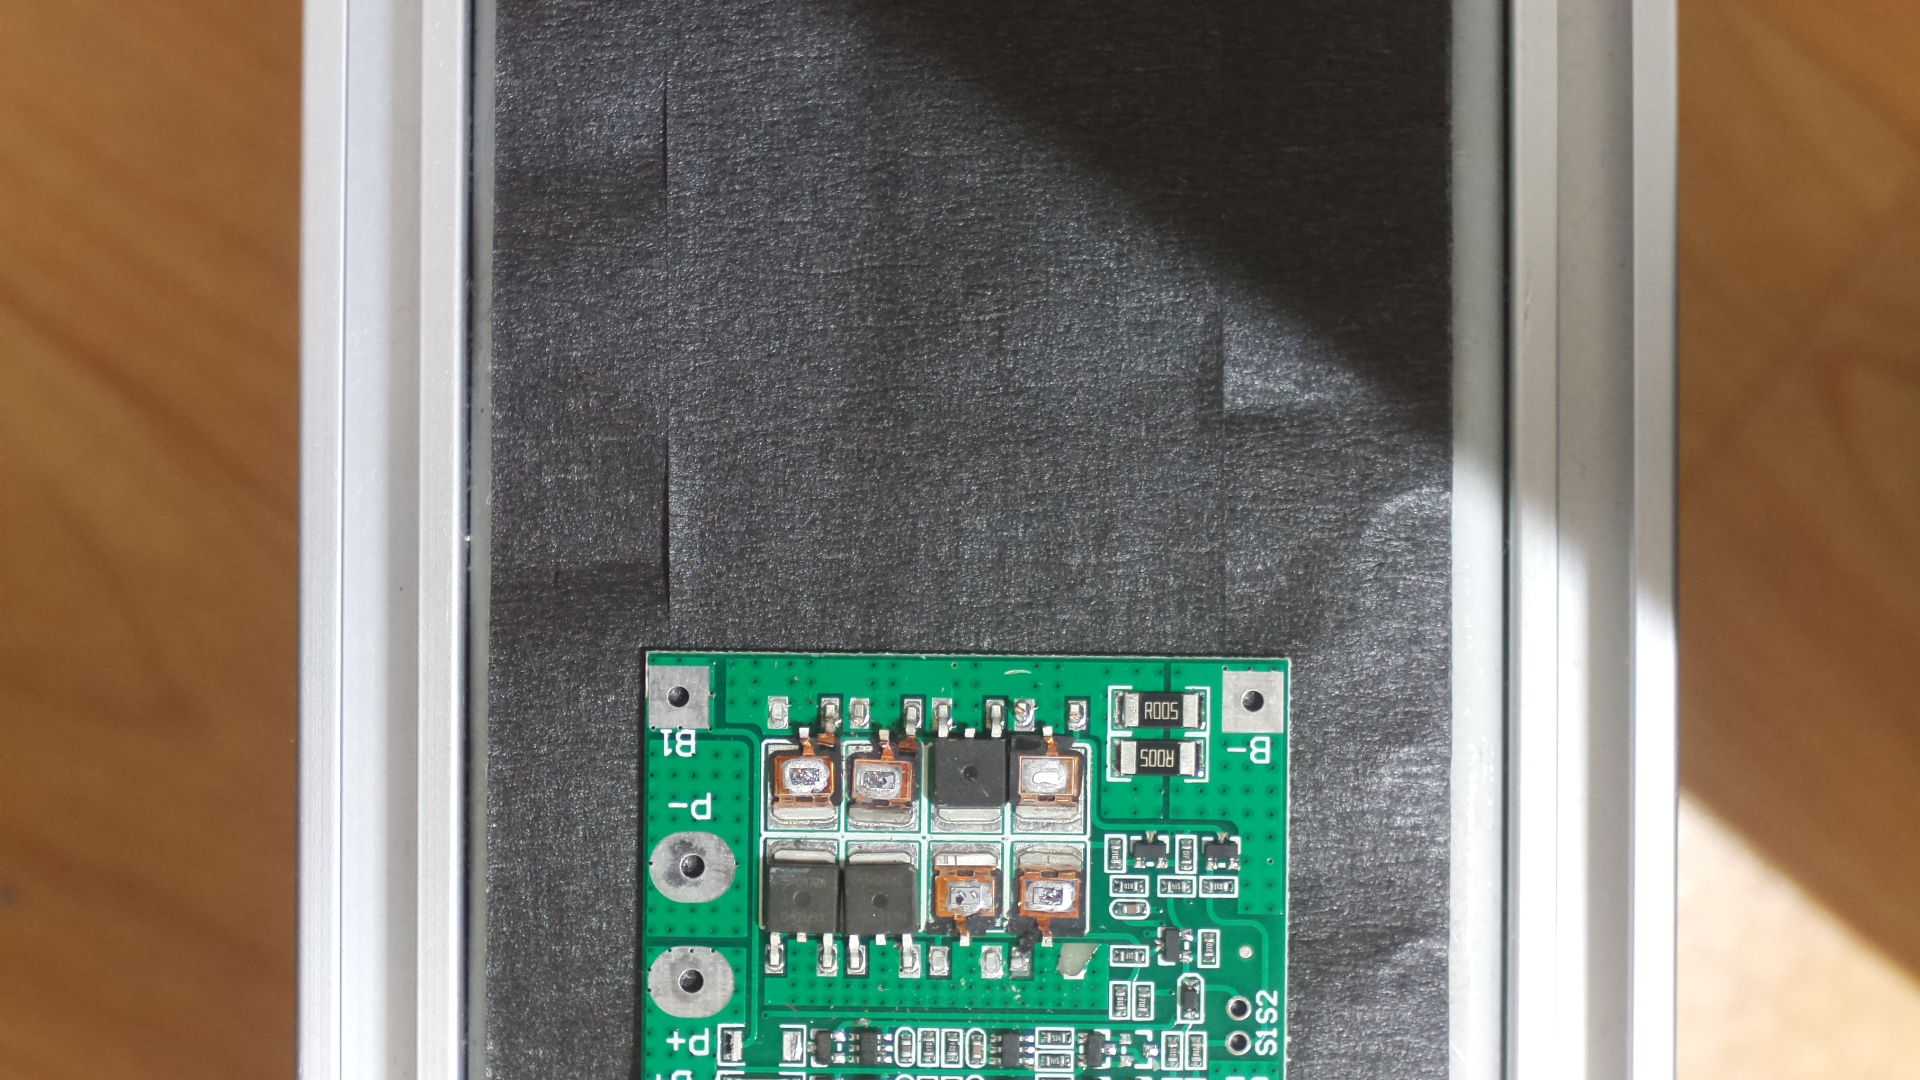C_Missing_part: (634, 632, 1328, 1080)
